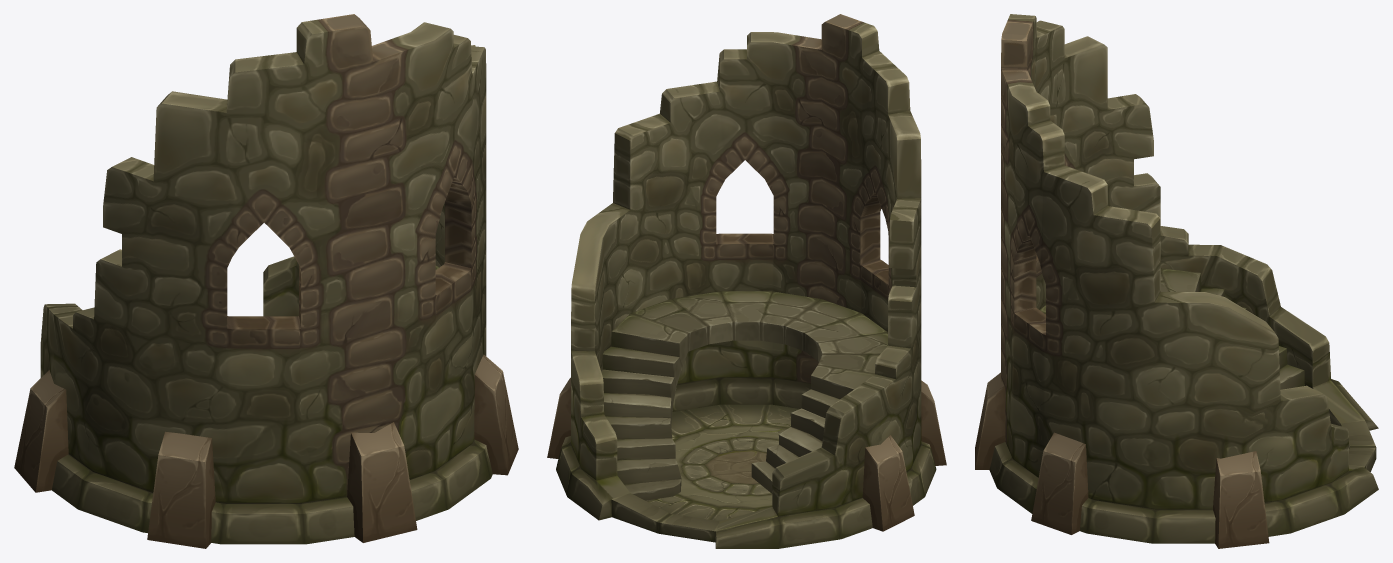
Rendered from Tower.FBX.
The picture shows the model from 3 angles, left to right: view 1: azimuth 30°, elevation 25°; view 2: azimuth 150°, elevation 25°; view 3: azimuth 270°, elevation 25°; orthographic projection. The views are drawn at different scales.
Parts seen in each view (by area): view 1: Tower; view 2: Tower; view 3: Tower.
Part boxes in pixels (bbox=[...]): Tower: bbox=[14, 14, 518, 548]; Tower: bbox=[547, 14, 946, 548]; Tower: bbox=[975, 14, 1378, 548].
Size of what is drawn, in the model's own units: 1380 by 1302 by 1500.
